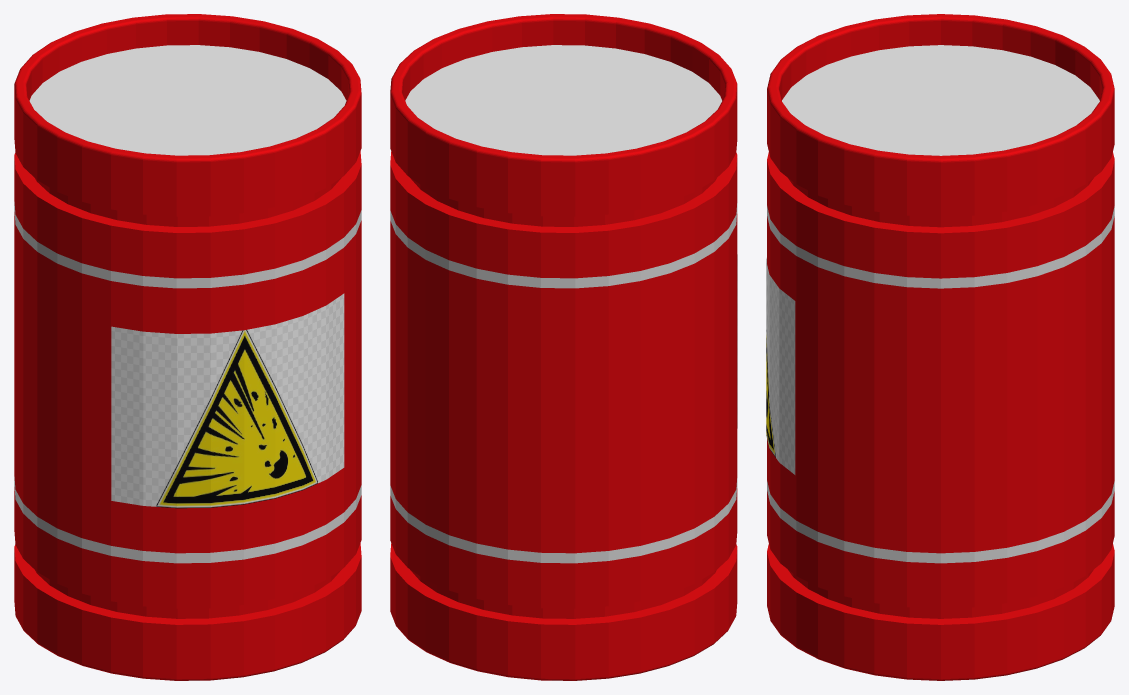
File: barrel.fbx
3 views of the same model, side by side, from view 1: azimuth 30°, elevation 25°; view 2: azimuth 150°, elevation 25°; view 3: azimuth 270°, elevation 25° (orthographic).
Parts seen in each view (by area): view 1: Cylinder, Cylinder.002, Cylinder.001; view 2: Cylinder, Cylinder.001; view 3: Cylinder, Cylinder.001, Cylinder.002.
Part boxes in pixels (x1,y1,x2,y2): Cylinder: (14,14,361,680); Cylinder.002: (111,293,344,508); Cylinder.001: (14,45,361,563); Cylinder: (390,14,737,680); Cylinder.001: (390,45,737,563); Cylinder: (767,14,1114,680); Cylinder.001: (767,45,1114,563); Cylinder.002: (766,258,795,474).
Size of the model in its own units: 200 by 331 by 200.
